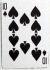ten: (1, 1, 48, 66)
